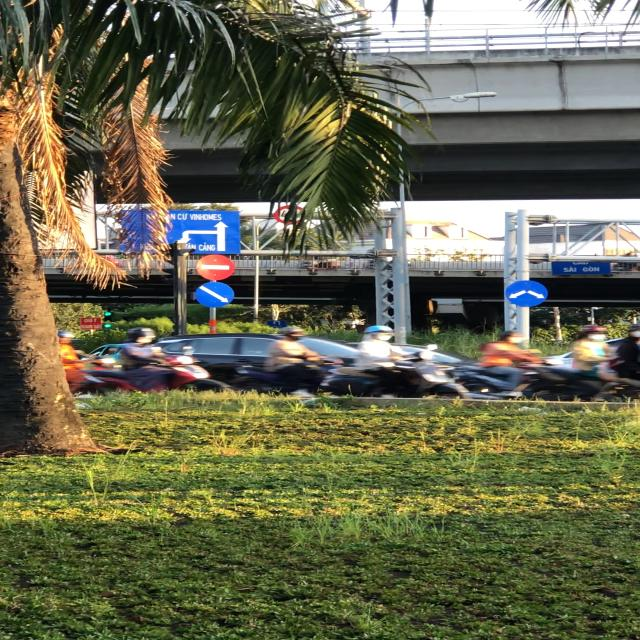Bien bao cam di nguoc chieu: (192, 251, 240, 281)
Bien bao huong phai di vong chuong ngai vat: (500, 278, 550, 308), (197, 281, 240, 310)
